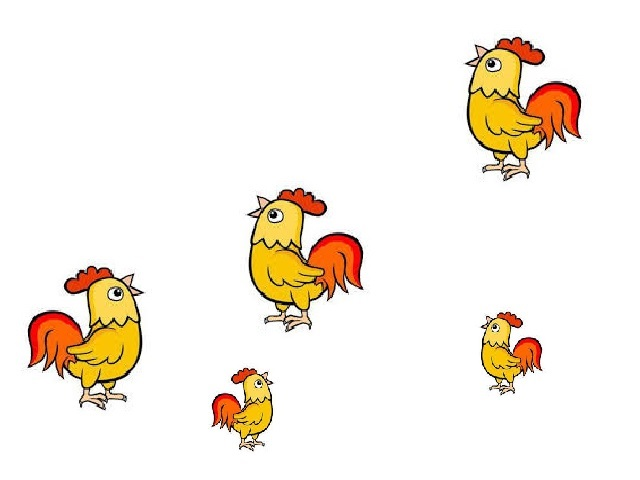crown: (501, 35, 548, 65), (62, 265, 112, 292), (280, 189, 332, 214), (501, 309, 524, 327), (230, 366, 254, 380)
eyes: (484, 59, 503, 74), (106, 285, 122, 301), (266, 208, 279, 222), (253, 379, 264, 393), (494, 324, 501, 337)
feet: (479, 156, 535, 181), (75, 386, 128, 411), (264, 308, 314, 333), (239, 439, 267, 451), (492, 384, 517, 397)
tail: (304, 234, 368, 299), (527, 80, 583, 148), (25, 312, 82, 377), (512, 337, 547, 377), (209, 391, 241, 431)
